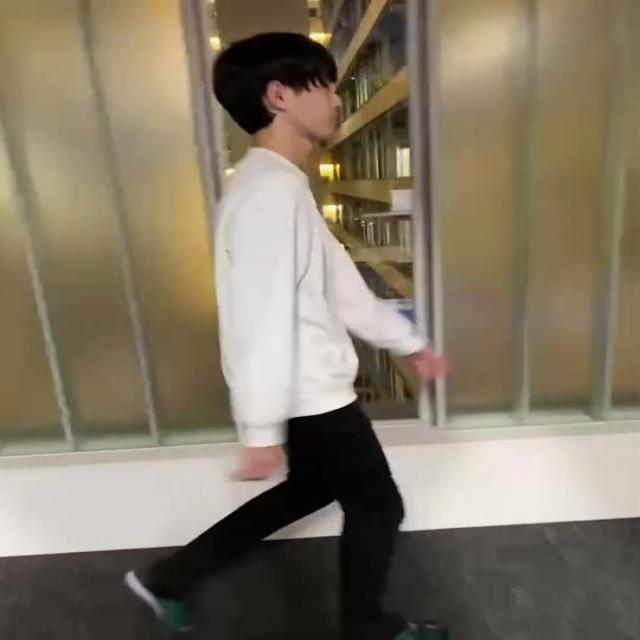direk: (115, 28, 459, 640)
